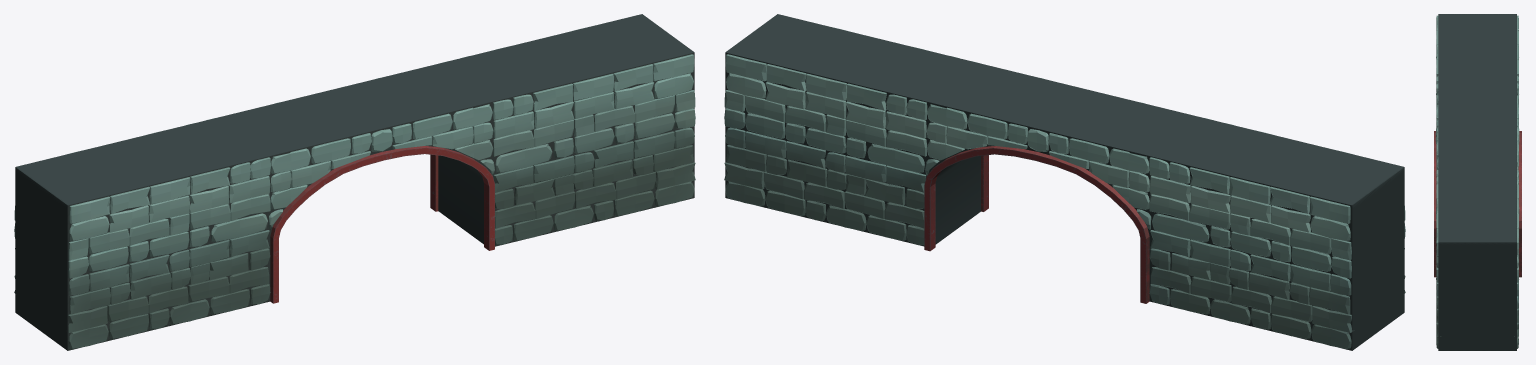
Rendered from jembatan.fbx.
3 renders of one model, left to right at view 1: azimuth 30°, elevation 25°; view 2: azimuth 150°, elevation 25°; view 3: azimuth 270°, elevation 25°, orthographic. The views are drawn at different scales.
Visible parts, largest first — view 1: Pager Bata_high.006, Cube.004, Circle.004; view 2: Pager Bata_high.006, Cube.004, Circle.004; view 3: Cube.004, Pager Bata_high.006, Circle.004.
Boxes of the visible parts, <box> form: Pager Bata_high.006: <box>14,27,695,349</box>; Cube.004: <box>15,14,694,350</box>; Circle.004: <box>270,146,494,303</box>; Pager Bata_high.006: <box>724,27,1405,349</box>; Cube.004: <box>725,14,1404,350</box>; Circle.004: <box>924,146,1149,303</box>; Cube.004: <box>1438,14,1516,350</box>; Pager Bata_high.006: <box>1435,15,1519,348</box>; Circle.004: <box>1434,131,1521,277</box>.
Size of the model in its own units: 6372 by 1413 by 1036.
Materials: 3 (3 with a texture image).
